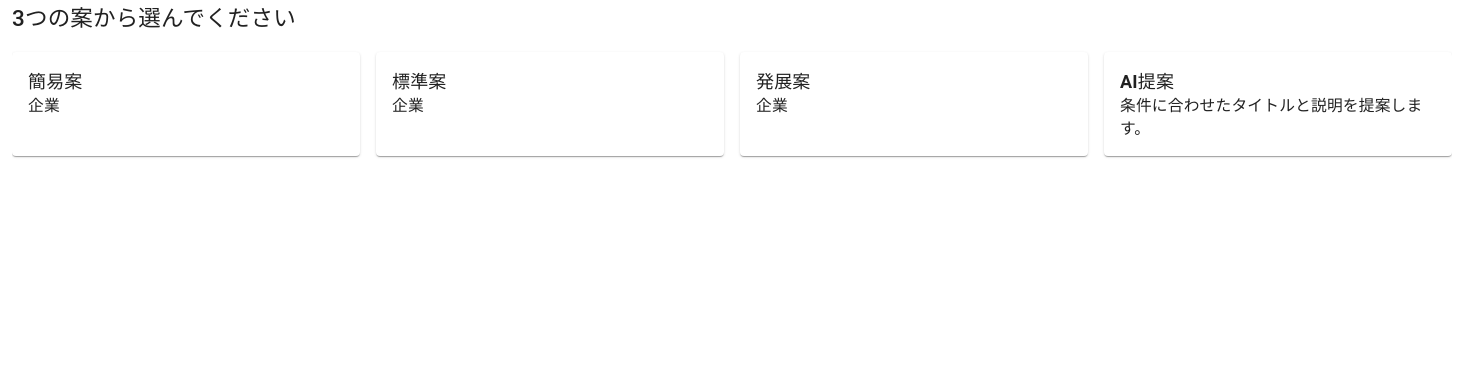
Test: TemplateOverviewPage › uses AI output in the existing confirmation screen on APPROVED and falls back on failure
Click the button with aria-label "AI提案を選ぶ".
click(1278, 104)  # box [1104,52,1452,156]
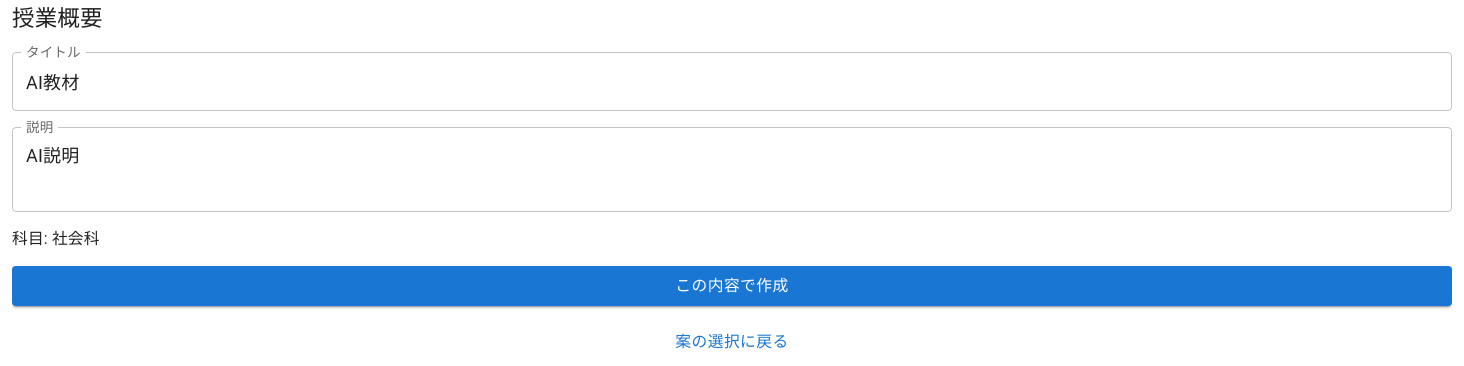
Result: the field showing "AI教材" is shown at [12,52,1452,111]
